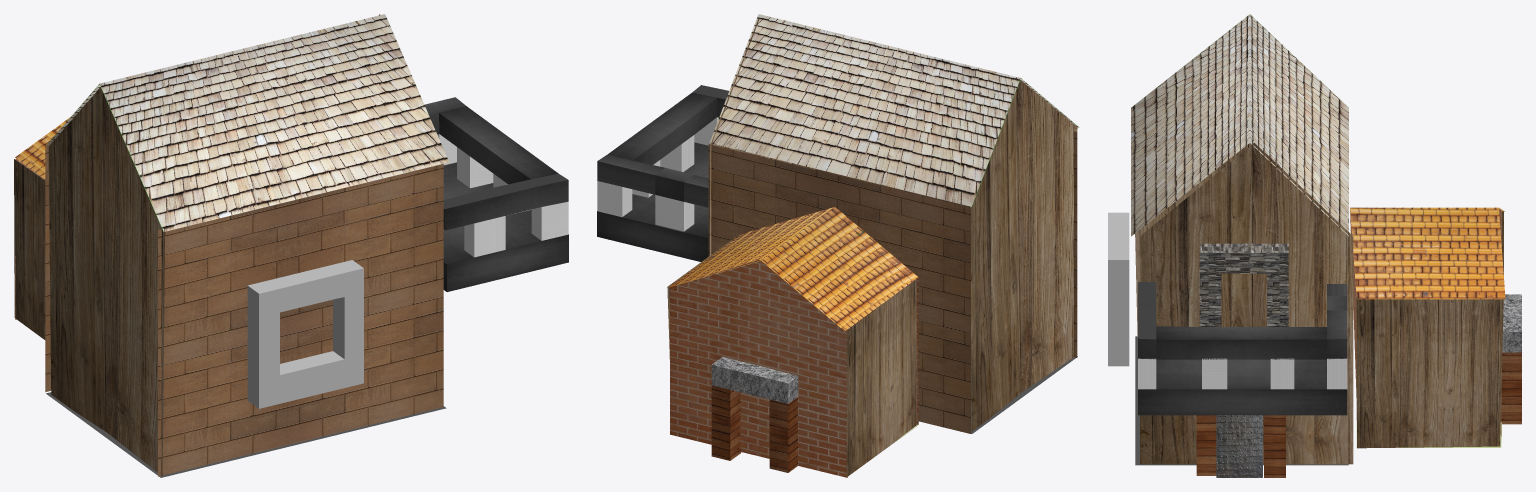
File: casa8.obj
3 views of the same model, side by side, from view 1: azimuth 30°, elevation 25°; view 2: azimuth 150°, elevation 25°; view 3: azimuth 270°, elevation 25° (orthographic). The views are drawn at different scales.
Visible parts, largest first — view 1: casa2_parede_lado, casa2_telhado, casa2_parede2, Box003, sacada, casa_menor_parede2, sacada_cima_lado, sacada_cima_meio, sacada_poste, casa2, casa2_parede_lado2, casa_menor_telhado; view 2: casa2_telhado, casa2_parede2, casa2_parede_lado2, casa_menor_parede_lado2, casa_menor_telhado, casa_menor_parede2, porta, sacada, sacada_cima_lado, sacada_cima_meio, sacada_poste, casa2_parede_lado (+2 smaller); view 3: casa2_parede, casa2_telhado, casa_menor_parede, casa_menor_telhado, sacada, sacada_cima_meio, porta, porta002, Box003, sacada_cima_lado, porta008, sacada_poste (+2 smaller).
Boxes of the visible parts, bbox=[...] form: casa2_parede_lado: bbox=[158, 164, 443, 476]; casa2_telhado: bbox=[46, 14, 448, 231]; casa2_parede2: bbox=[48, 87, 165, 475]; Box003: bbox=[247, 260, 363, 408]; sacada: bbox=[443, 162, 568, 291]; casa_menor_parede2: bbox=[14, 159, 45, 339]; sacada_cima_lado: bbox=[424, 97, 568, 230]; sacada_cima_meio: bbox=[439, 106, 558, 184]; sacada_poste: bbox=[437, 134, 568, 257]; casa2: bbox=[46, 392, 446, 477]; casa2_parede_lado2: bbox=[45, 145, 51, 391]; casa_menor_telhado: bbox=[15, 117, 70, 179]; casa2_telhado: bbox=[709, 14, 1079, 206]; casa2_parede2: bbox=[970, 80, 1077, 431]; casa2_parede_lado2: bbox=[708, 144, 970, 433]; casa_menor_parede_lado2: bbox=[670, 260, 847, 477]; casa_menor_telhado: bbox=[667, 207, 918, 331]; casa_menor_parede2: bbox=[846, 279, 917, 476]; porta: bbox=[711, 357, 798, 472]; sacada: bbox=[597, 142, 708, 261]; sacada_cima_lado: bbox=[597, 85, 728, 207]; sacada_cima_meio: bbox=[608, 92, 717, 164]; sacada_poste: bbox=[597, 117, 718, 231]; casa2_parede_lado: bbox=[816, 131, 1077, 357]; casa2_parede: bbox=[1140, 143, 1353, 464]; casa2_telhado: bbox=[1131, 14, 1348, 236]; casa_menor_parede: bbox=[1356, 299, 1503, 448]; casa_menor_telhado: bbox=[1350, 207, 1505, 299]; sacada: bbox=[1138, 359, 1347, 415]; sacada_cima_meio: bbox=[1156, 326, 1326, 359]; porta: bbox=[1196, 294, 1521, 477]; porta002: bbox=[1199, 243, 1288, 326]; Box003: bbox=[1108, 212, 1129, 366]; sacada_cima_lado: bbox=[1138, 282, 1347, 359]; porta008: bbox=[1216, 415, 1262, 477]; sacada_poste: bbox=[1138, 358, 1347, 389].
Size of the model in its own units: 226 by 185 by 214.
